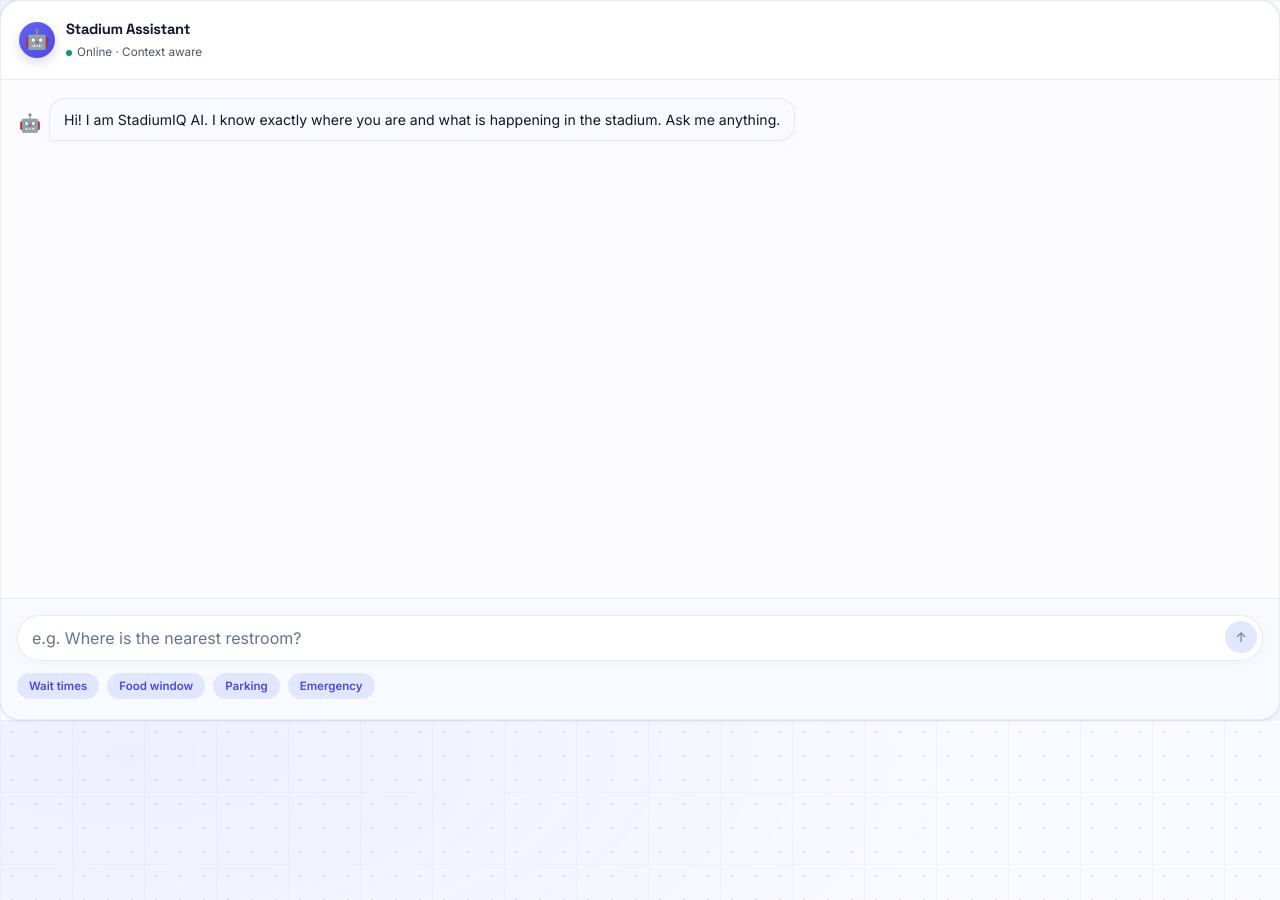
it: AssistantTab › allows user to type and send a message
Expected: the button named "Send message" is disabled, [1225,621,1257,653]
# Type a message
In the field with placeholder "e.g. Where is the nearest restroom?": (640, 638) [17,615,1263,661], type "Where is the restroom?"
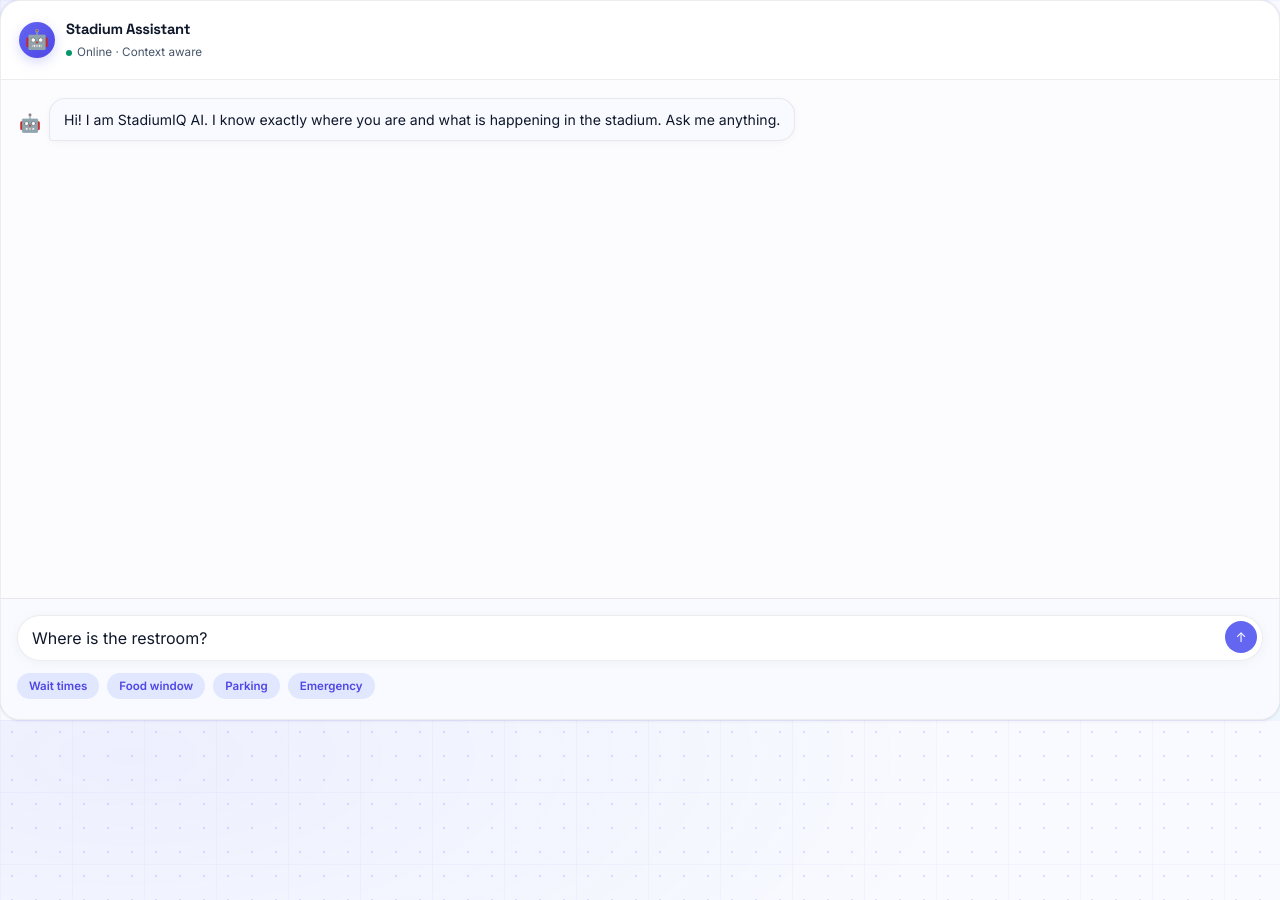
Now the button named "Send message" is enabled
# Send the message
Click the button named "Send message": (1241, 637) [1225,621,1257,653]
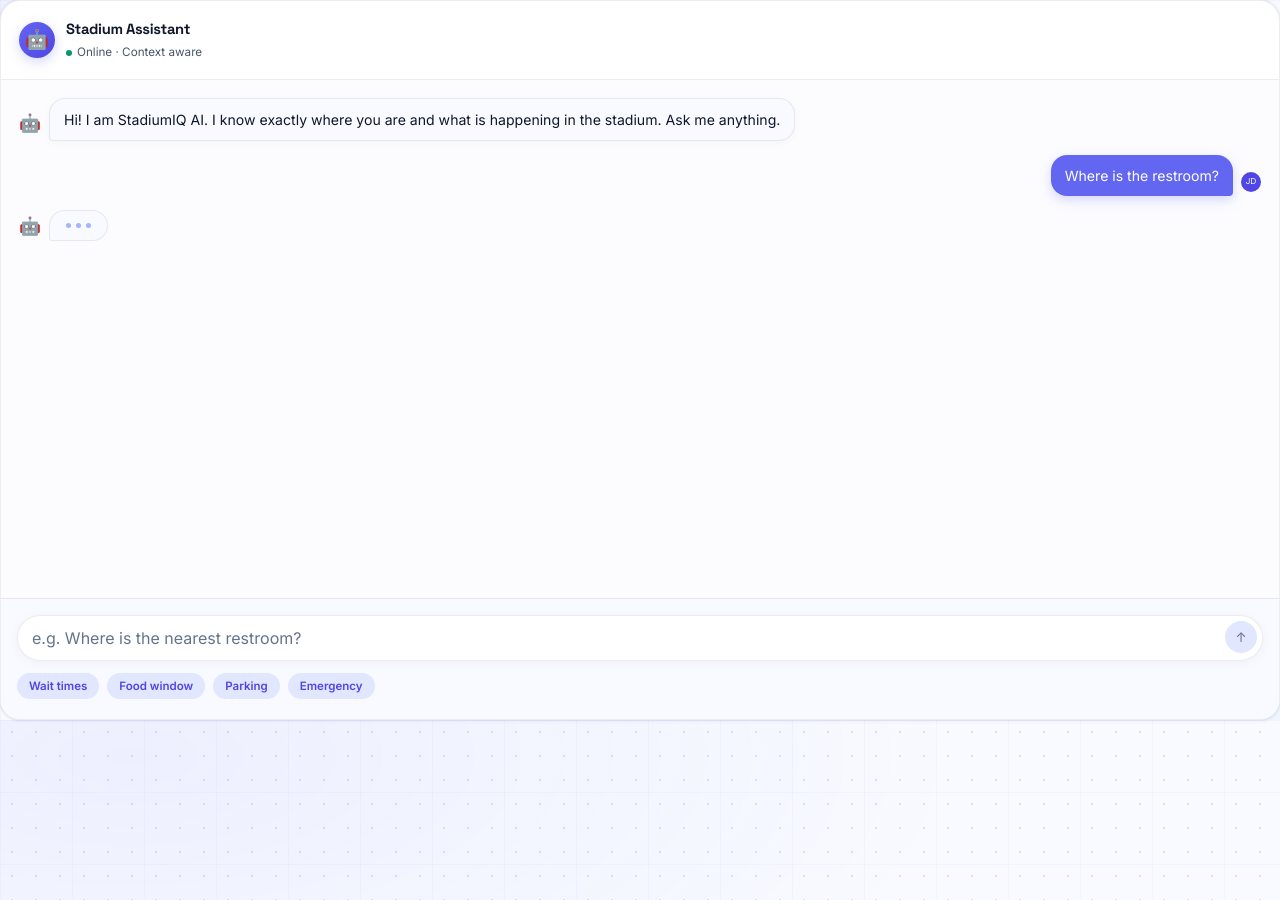
Now the text "Where is the restroom?" is shown, box [1051,155,1233,196]
Now the field with placeholder "e.g. Where is the nearest restroom?" is empty, box [17,615,1263,661]
